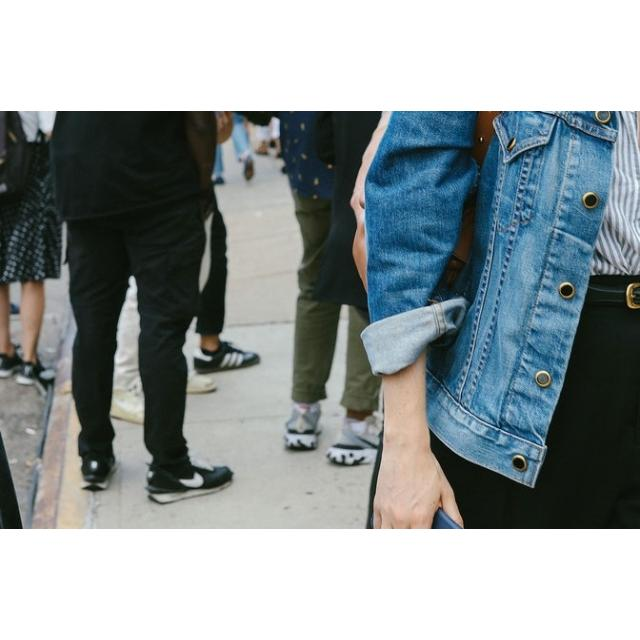denim: (366, 111, 640, 327)
